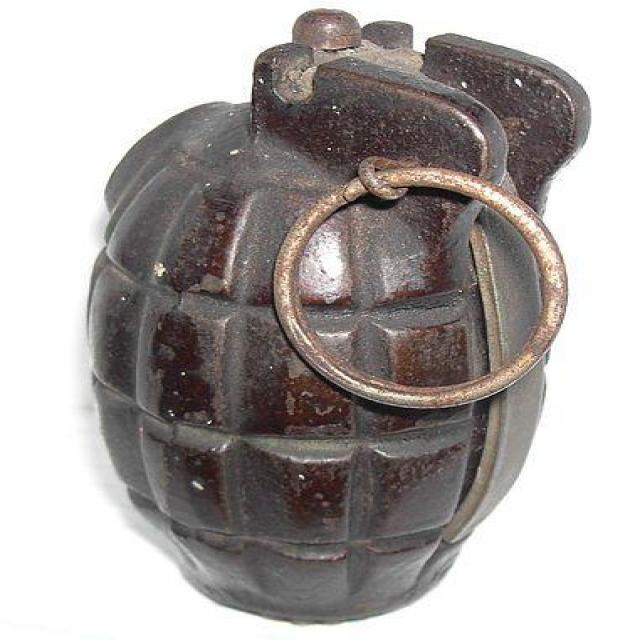grenade: (68, 31, 597, 626)
